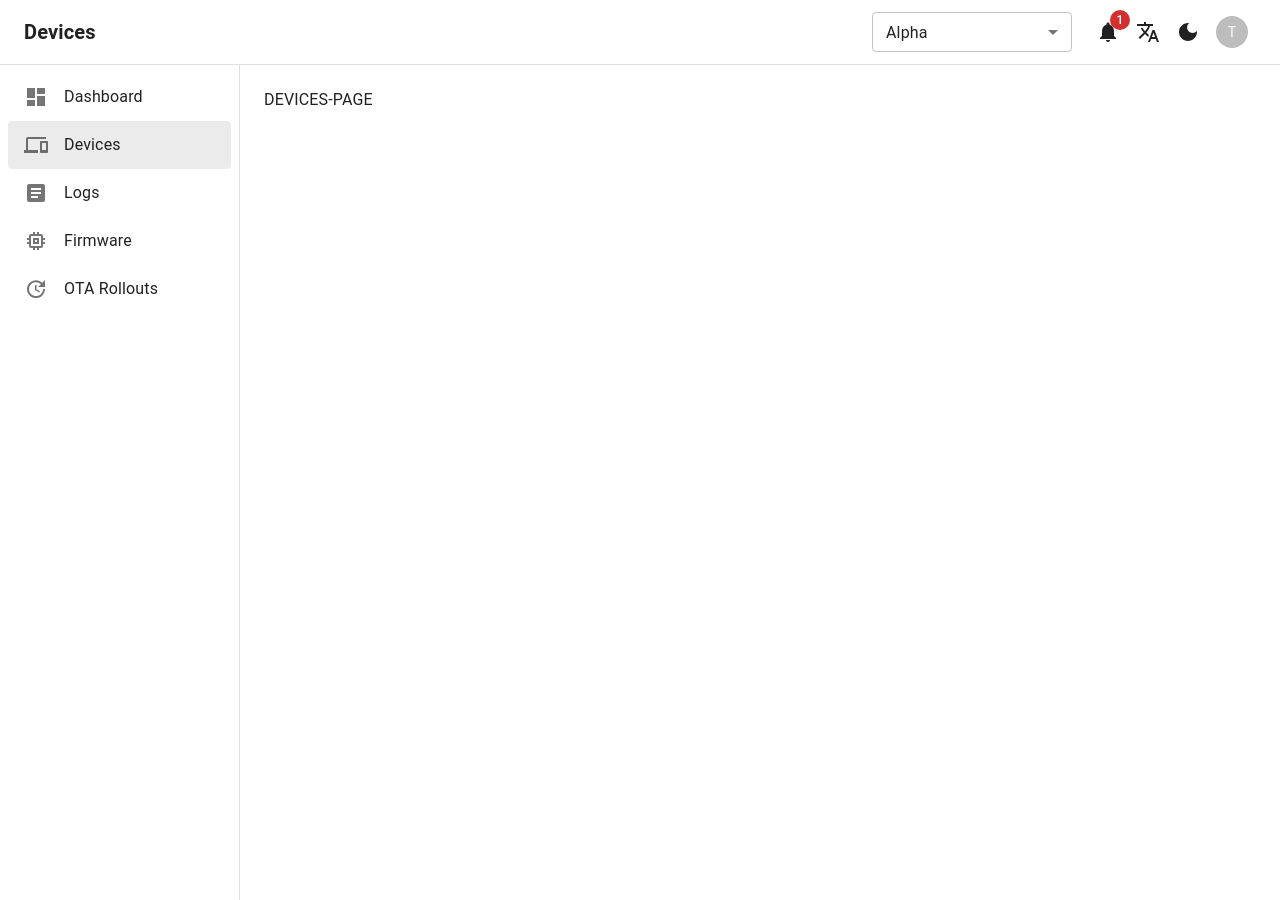
AppLayout page titles and project switching › a pushed notification shows in the bell and navigates to the rollout
Click the button "1": (1108, 32) [1088,12,1128,52]
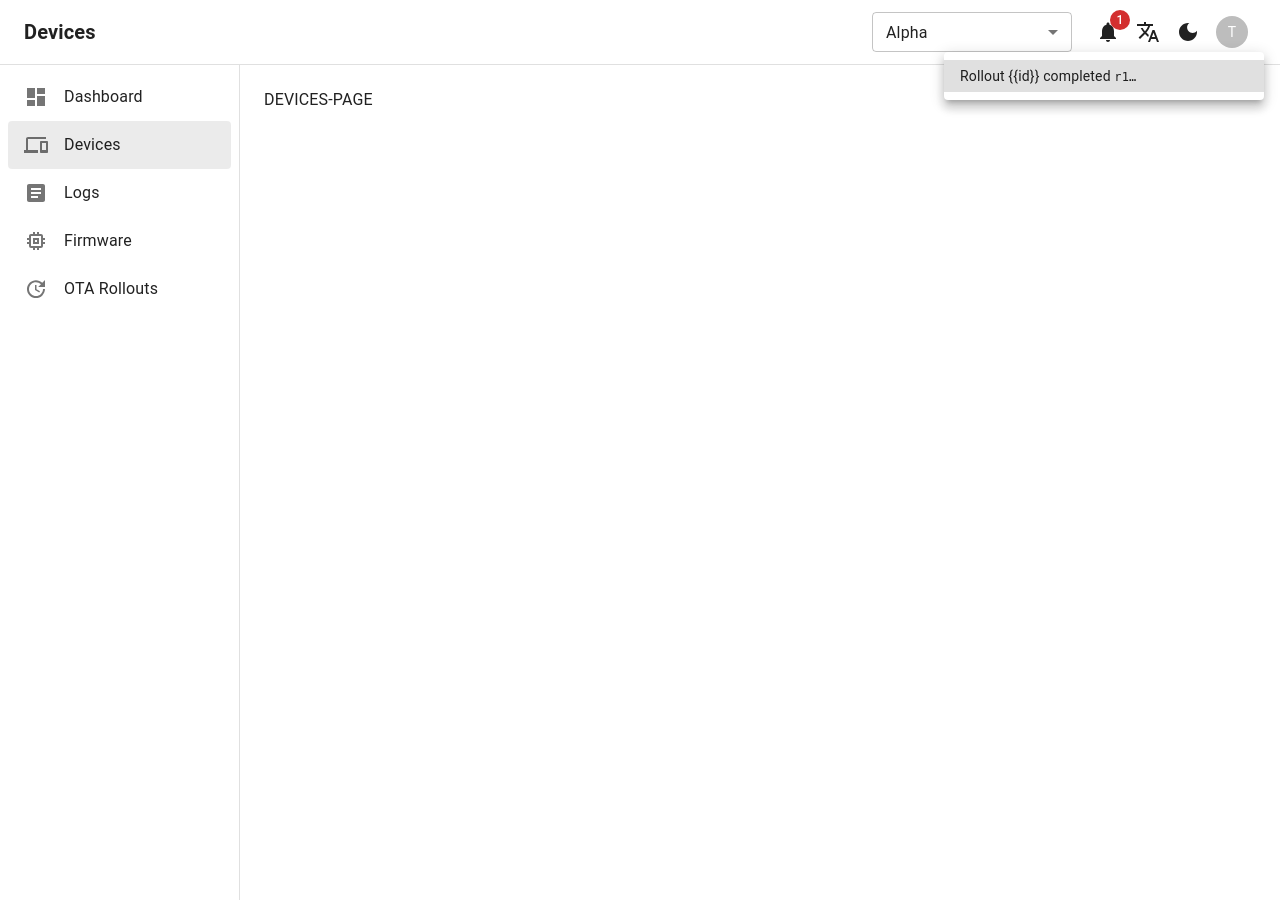
Expected: the text "Rollout {{id}} completed r1…" is shown, [960,66,1136,86]
Note: clicking the entry navigates to the rollout detail
Click the menu item "Rollout {{id}} completed r1…": (1104, 76) [944,60,1264,92]
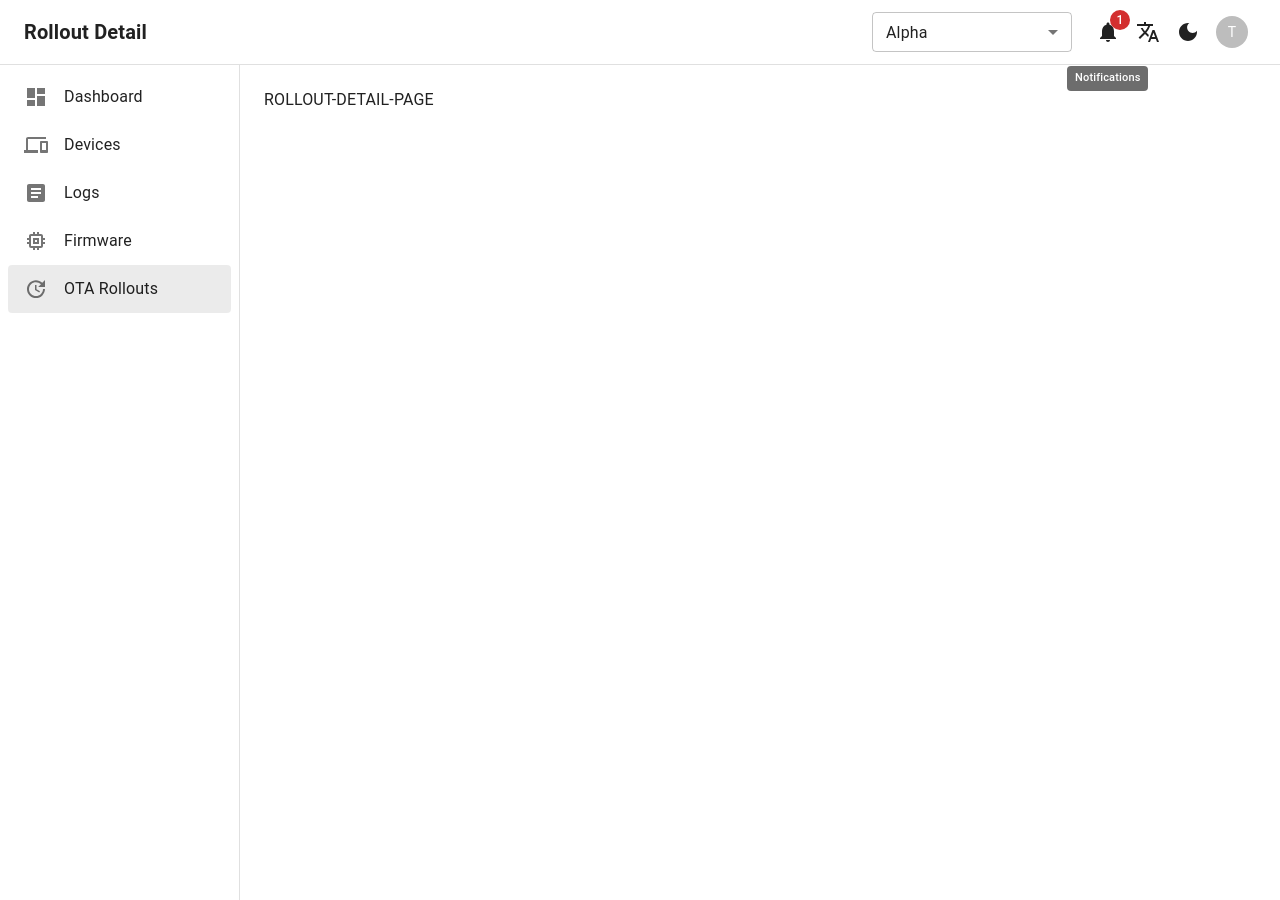
Expected: the text "ROLLOUT-DETAIL-PAGE" is shown, [264,90,434,109]
